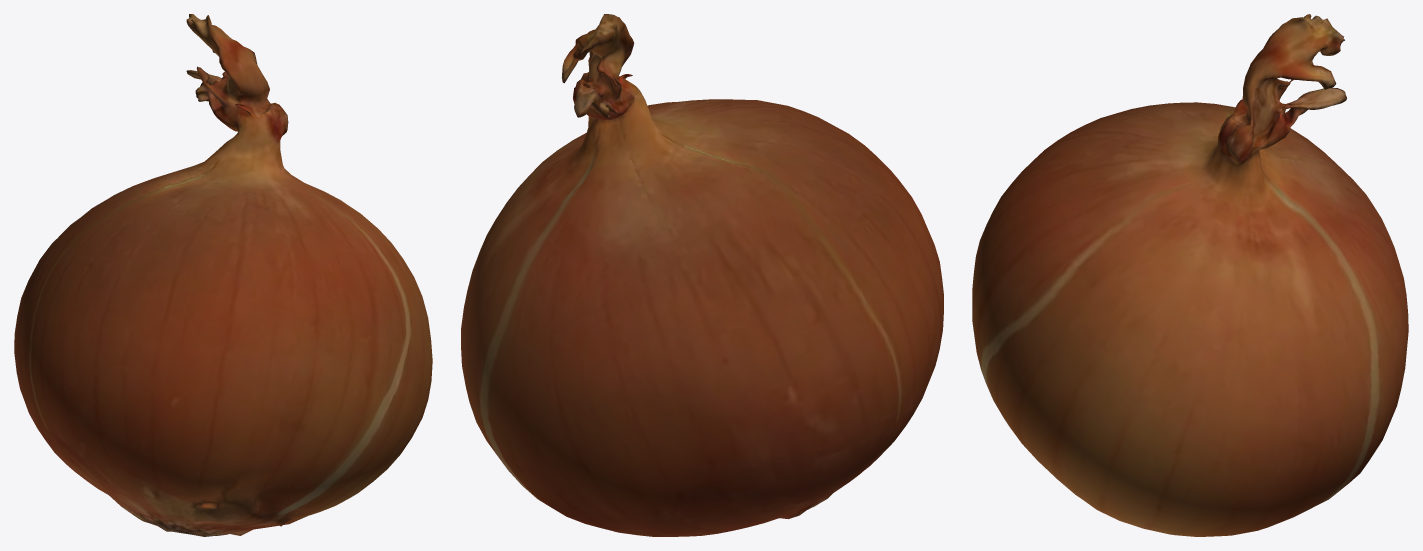
The model's file is yellow_onion.87494925.glb.
The picture shows the model from 3 angles, left to right: view 1: azimuth 30°, elevation 25°; view 2: azimuth 150°, elevation 25°; view 3: azimuth 270°, elevation 25°; orthographic projection. The views are drawn at different scales.
Visible parts, largest first — view 1: yellow_onion; view 2: yellow_onion; view 3: yellow_onion.
Boxes of the visible parts, x1=… form: yellow_onion: x1=14, y1=14, x2=432, y2=536; yellow_onion: x1=461, y1=14, x2=943, y2=536; yellow_onion: x1=972, y1=14, x2=1408, y2=536.
Bounding box in the file's own units: 0.7604 × 0.906 × 0.72.
1 material, 1 textured.
